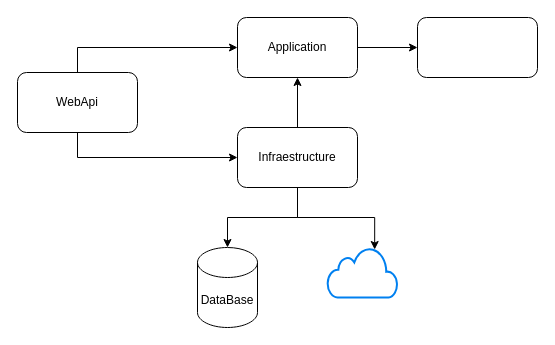
The diagram is 555 pixels wide and 345 high, and some of its shapes have lost their labels. The centre of each missing label's shape, as x and y in pixels:
"Azure" belongs at point 362,272.
"Domain" belongs at point 477,47.
